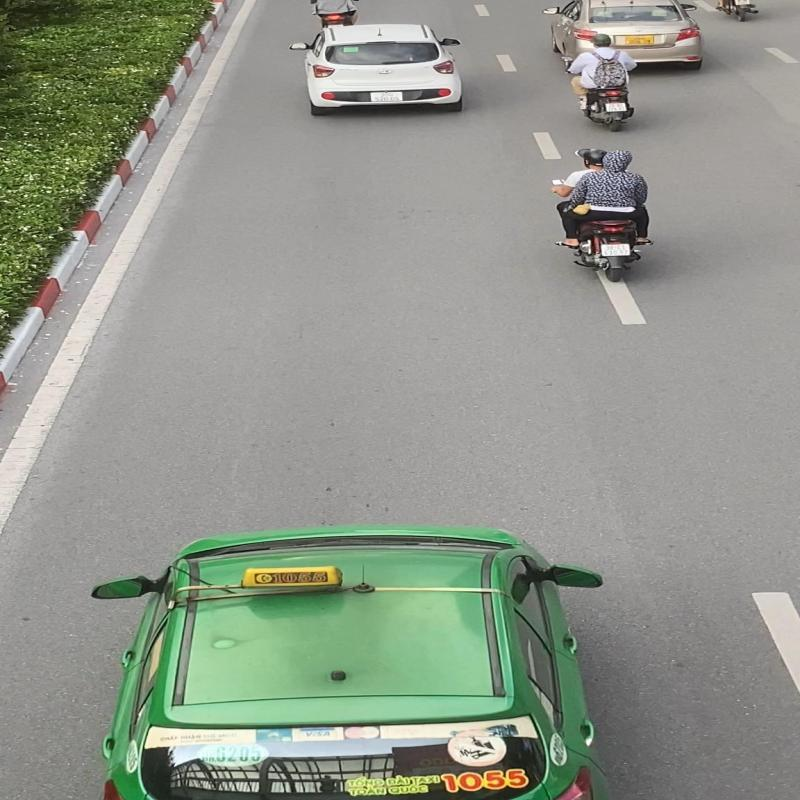helmet: (574, 147, 608, 170)
licenseplate: (598, 242, 634, 258)
motorcyclist: (551, 149, 656, 285)
